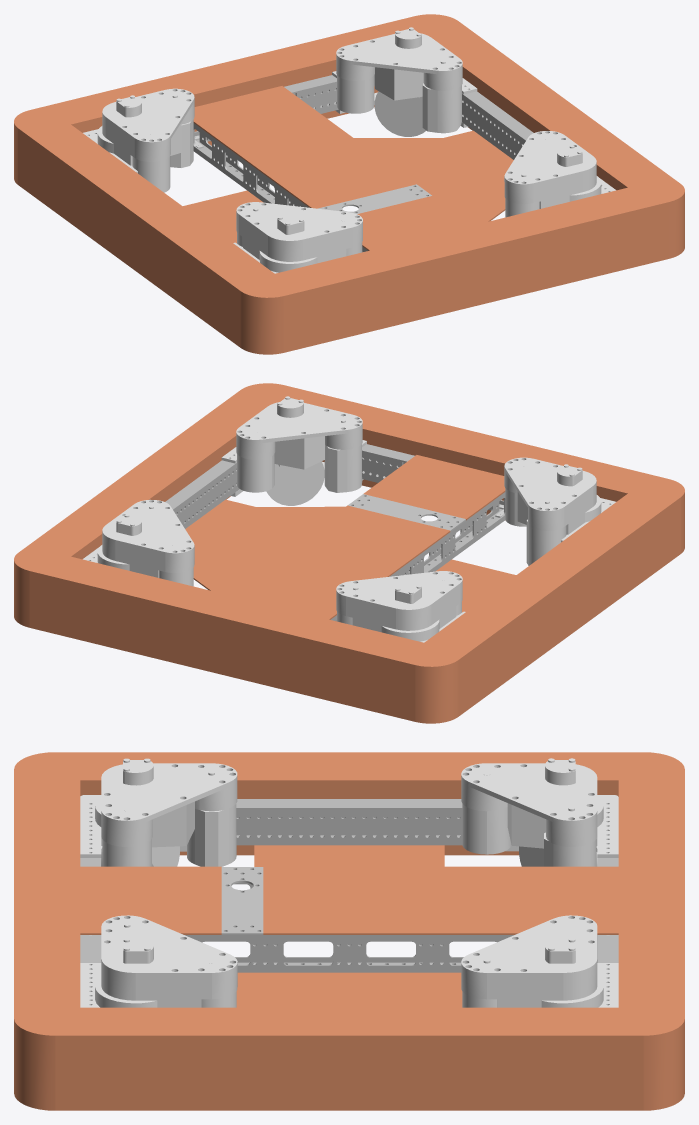
The picture shows the model from 3 angles, top to bottom: view 1: azimuth 30°, elevation 25°; view 2: azimuth 150°, elevation 25°; view 3: azimuth 270°, elevation 25°; orthographic projection. The views are drawn at different scales.
Parts seen in each view (by area): view 1: empty_20, empty_9, empty_6, empty_21, empty_18, empty_22, empty_24, empty_16, empty_15, empty_3, empty_7, empty_23 (+1 smaller); view 2: empty_20, empty_9, empty_24, empty_21, empty_22, empty_18, empty_6, empty_16, empty_15, empty_3, empty_7, empty_10 (+1 smaller); view 3: empty_20, empty_9, empty_22, empty_18, empty_6, empty_24, empty_5, empty_16, empty_21, empty_11, empty_7, empty_10 (+2 smaller).
Boxes of the visible parts, x1,y1,x2,y2 form: empty_20: [14, 14, 684, 354]; empty_9: [193, 86, 416, 208]; empty_6: [332, 27, 477, 136]; empty_21: [354, 130, 513, 225]; empty_18: [83, 88, 194, 192]; empty_22: [233, 202, 362, 273]; empty_24: [504, 131, 615, 217]; empty_16: [357, 196, 472, 250]; empty_15: [193, 123, 367, 252]; empty_3: [462, 91, 533, 159]; empty_7: [183, 190, 263, 243]; empty_23: [194, 75, 338, 142]; empty_20: [14, 383, 684, 723]; empty_9: [226, 505, 450, 619]; empty_24: [221, 396, 366, 505]; empty_21: [185, 499, 345, 594]; empty_22: [504, 457, 615, 565]; empty_18: [336, 571, 465, 642]; empty_6: [83, 499, 194, 586]; empty_16: [363, 455, 505, 520]; empty_15: [331, 492, 505, 621]; empty_3: [165, 460, 239, 528]; empty_7: [435, 559, 515, 612]; empty_10: [348, 494, 465, 531]; empty_20: [14, 752, 684, 1110]; empty_9: [263, 866, 618, 934]; empty_22: [80, 758, 237, 866]; empty_18: [461, 758, 618, 866]; empty_6: [461, 915, 618, 1007]; empty_24: [80, 915, 237, 1007]; empty_5: [236, 799, 462, 845]; empty_16: [80, 866, 221, 934]; empty_21: [236, 972, 462, 1007]; empty_11: [185, 935, 597, 972]; empty_7: [254, 845, 444, 866]; empty_10: [221, 867, 263, 934].
Size of the model in its own units: 0.81 by 0.1723 by 0.81.
